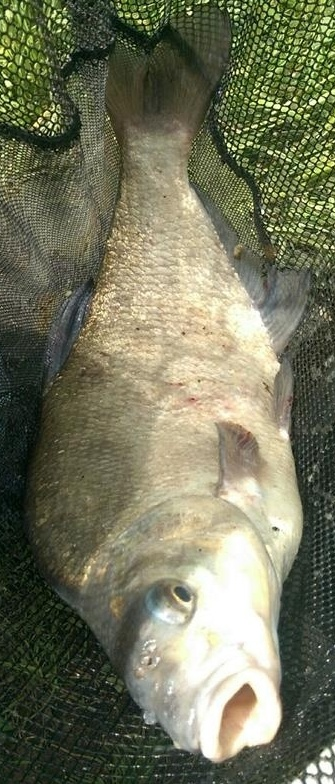Abramis brama: (20, 20, 315, 764)
